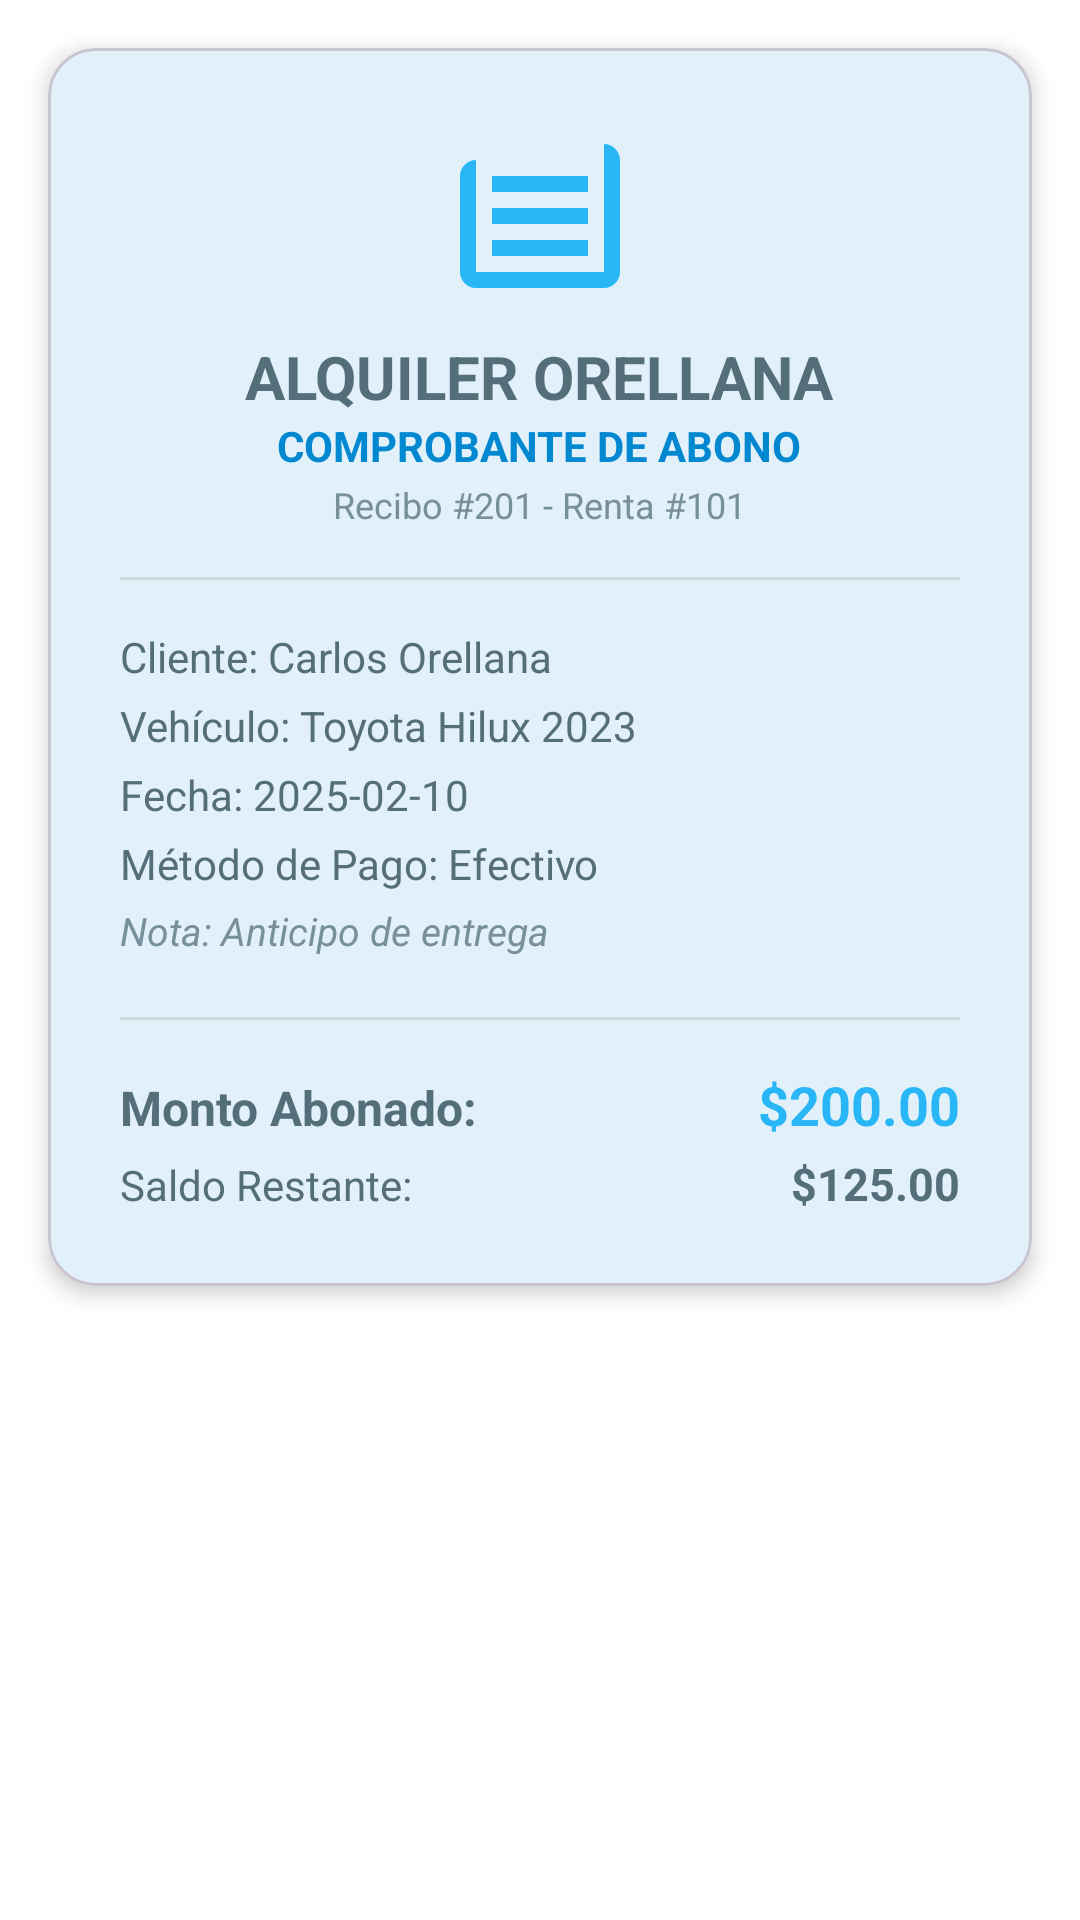

Locate icon controls on the screen. Image size 1080×1920, boxes as (x1, y1, x2, y2).
Recibo: (460, 144, 620, 288)
